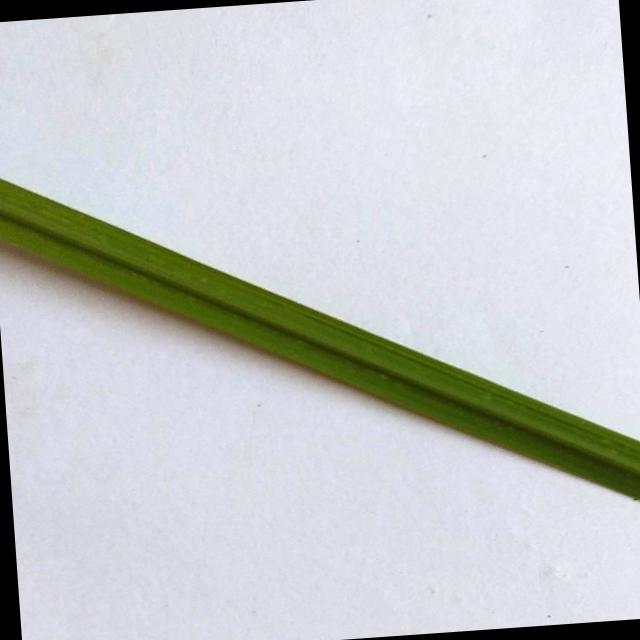Rice_Healthy: (0, 179, 640, 500)
